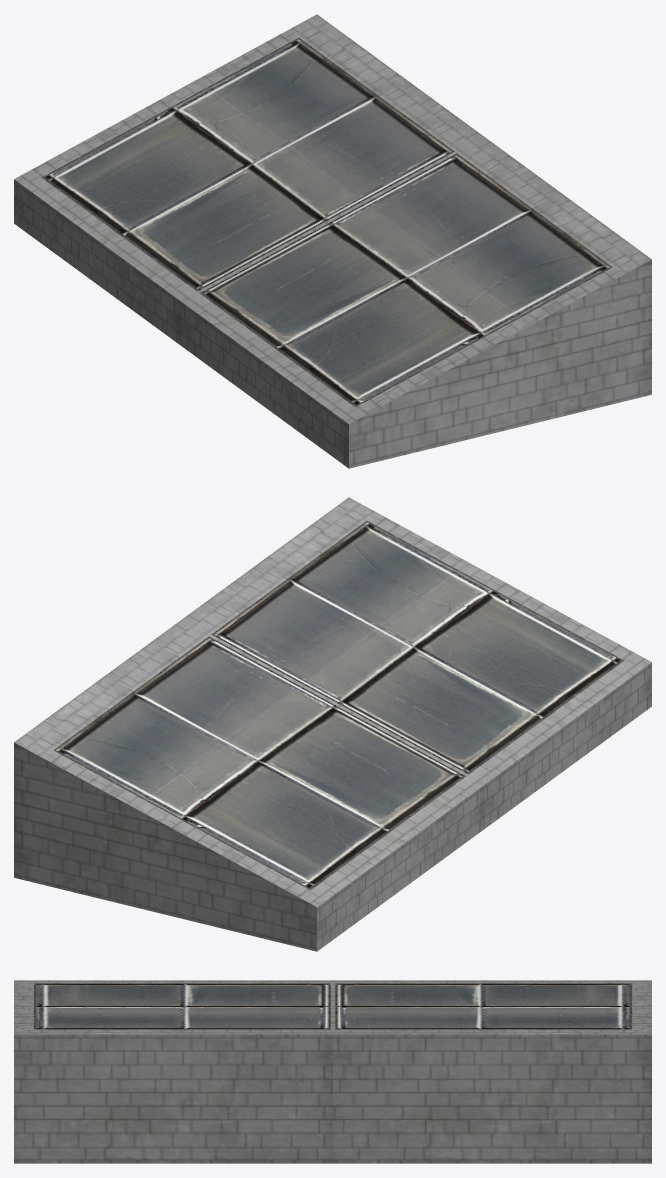
Rendered from Del_RoofelEment_v06.FBX.
The picture shows the model from 3 angles, top to bottom: view 1: azimuth 30°, elevation 25°; view 2: azimuth 150°, elevation 25°; view 3: azimuth 270°, elevation 25°; orthographic projection. The views are drawn at different scales.
Parts seen in each view (by area): view 1: Del_RoofelEment_v06; view 2: Del_RoofelEment_v06; view 3: Del_RoofelEment_v06.
Boxes of the visible parts, left/top/right/bottom form: Del_RoofelEment_v06: left=14, top=14, right=651, bottom=468; Del_RoofelEment_v06: left=14, top=497, right=651, bottom=951; Del_RoofelEment_v06: left=14, top=980, right=651, bottom=1163.
Size of the model in its own units: 1.19 by 0.5069 by 2.27.
1 material, 1 textured.
